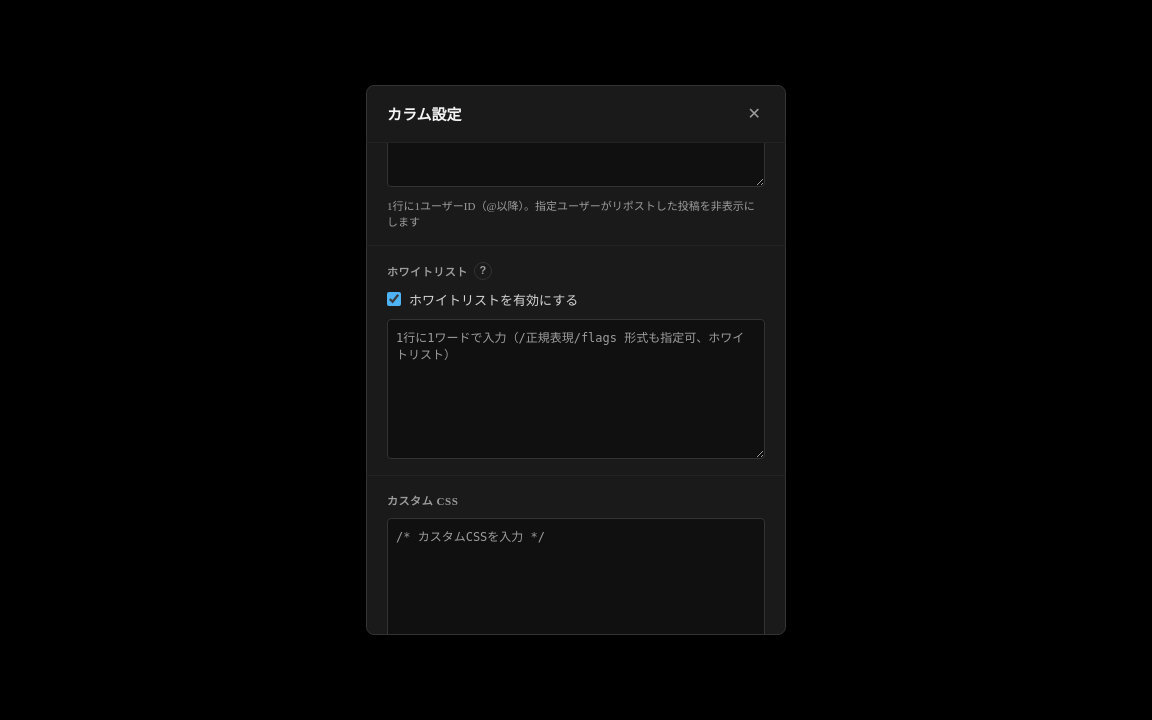
Test case: SettingsPanel ホワイトリスト › 不正な正規表現形式のワードを入力して適用すると、エラーメッセージが表示されonApplyが呼ばれない
The image size is (1152, 720).
(page scrolled)
Type "/[ [/" into the text box with placeholder "1行に1ワードで入力（/正規表現/flags 形式も指定可、ホワイトリスト）" at (576, 389), box [387, 319, 765, 459]
(page scrolled)
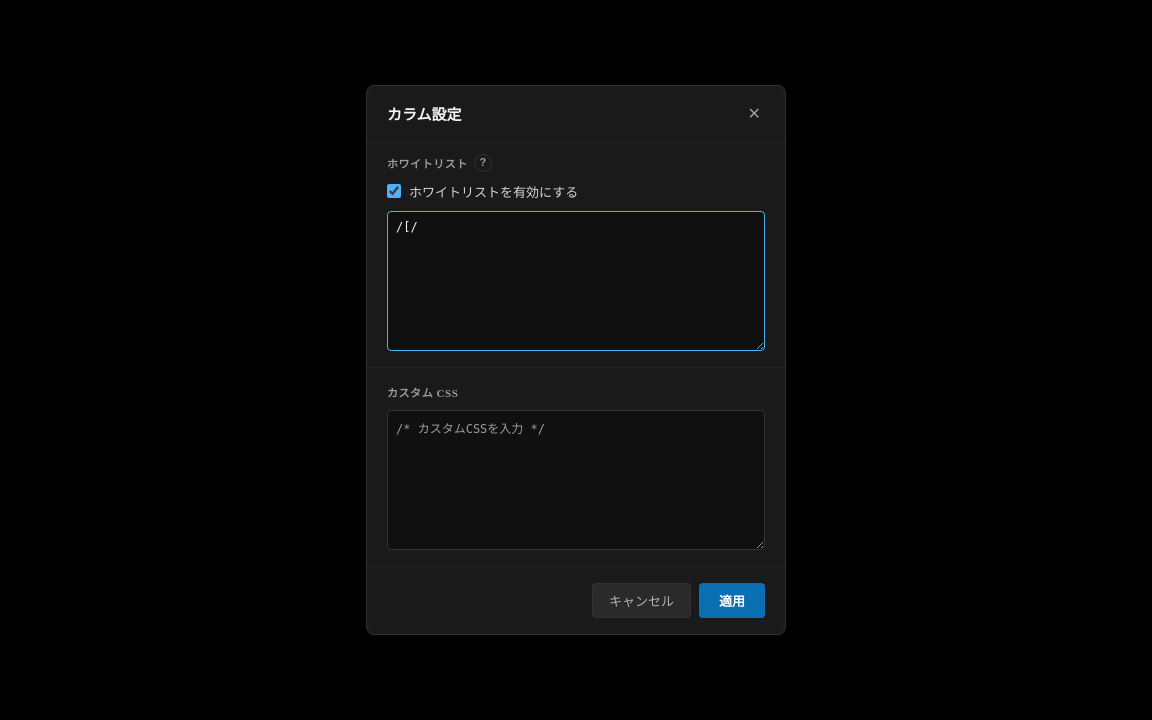
Click the button "適用" at (732, 600), box [699, 583, 765, 618]
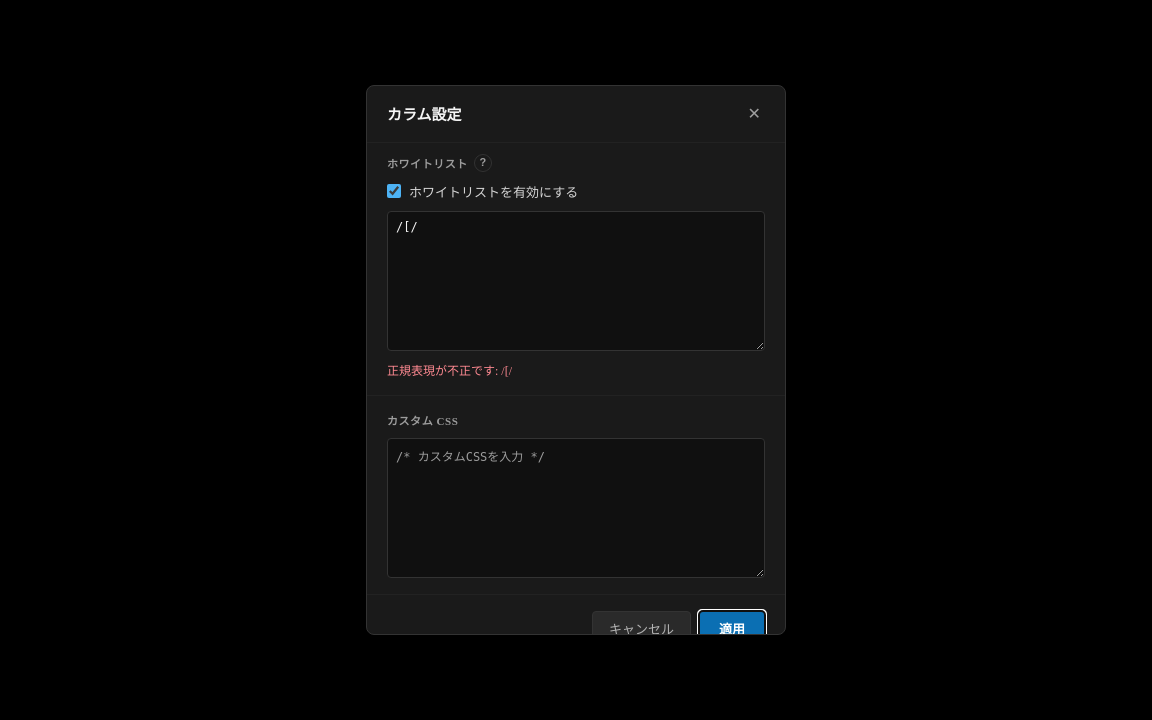
Result: the text "正規表現が不正です: /[/" is shown at [387, 364, 512, 378]
